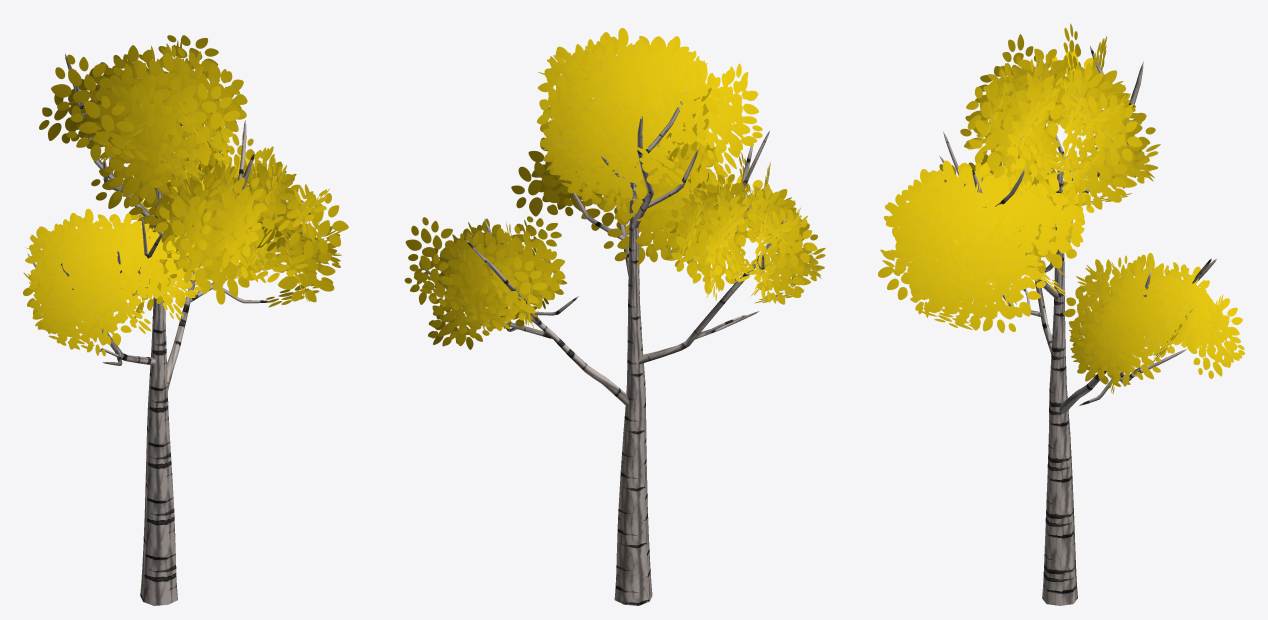
File: pirul.glb
3 renders of one model, left to right at view 1: azimuth 30°, elevation 25°; view 2: azimuth 150°, elevation 25°; view 3: azimuth 270°, elevation 25°, orthographic. The views are drawn at different scales.
Parts seen in each view (by area): view 1: pirul; view 2: pirul; view 3: pirul.
Boxes of the visible parts, x1,y1,x2,y2 form: pirul: (23, 35, 348, 605); pirul: (404, 28, 825, 605); pirul: (878, 23, 1244, 605).
Bounding box in the file's own units: 8.43 × 13 × 8.27.
2 materials, 2 textured.
